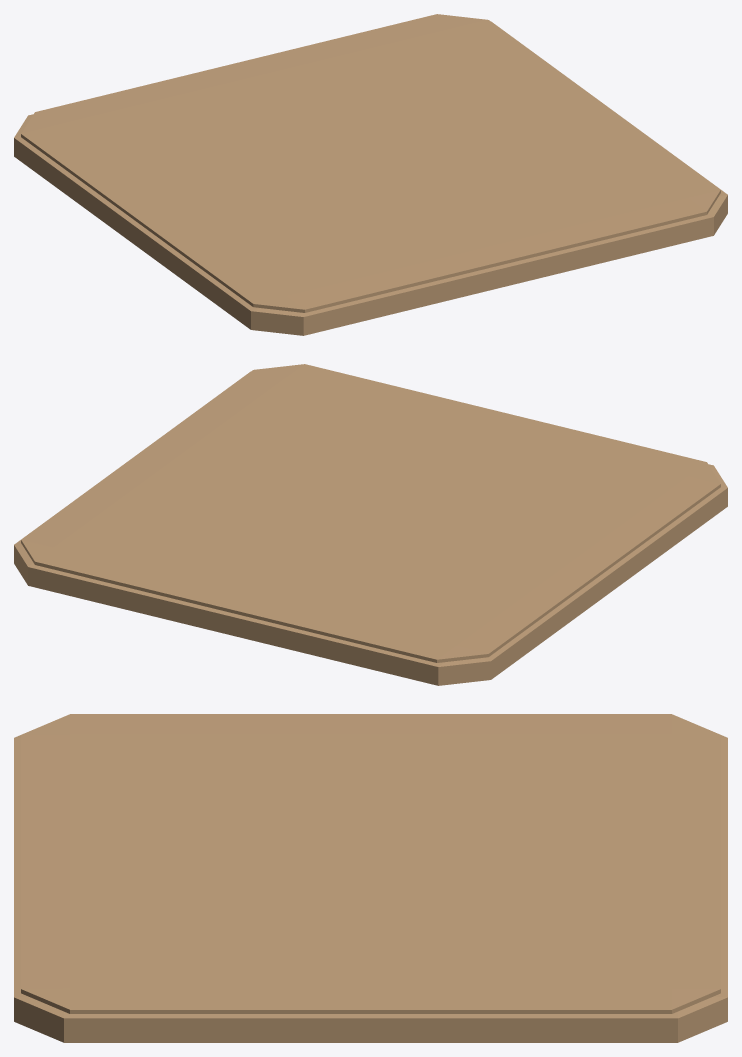
The model's file is b21_floor_timber_4x4m.glb.
3 renders of one model, top to bottom at view 1: azimuth 30°, elevation 25°; view 2: azimuth 150°, elevation 25°; view 3: azimuth 270°, elevation 25°, orthographic. The views are drawn at different scales.
Parts seen in each view (by area): view 1: b21_floor_timber_4x4m; view 2: b21_floor_timber_4x4m; view 3: b21_floor_timber_4x4m.
Boxes of the visible parts, x1,y1,x2,y2 form: b21_floor_timber_4x4m: [14, 14, 727, 335]; b21_floor_timber_4x4m: [14, 364, 727, 685]; b21_floor_timber_4x4m: [14, 714, 727, 1042].
Size of the model in its own units: 4 by 0.2 by 4.
